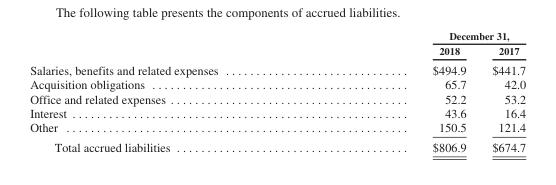table: (29, 29, 525, 153)
table column: (29, 29, 324, 153), (324, 29, 478, 153), (478, 29, 525, 153)
table column header: (29, 29, 525, 59)
table row: (29, 42, 525, 59), (29, 59, 525, 76), (29, 120, 525, 137), (29, 137, 525, 153), (29, 76, 525, 91), (29, 105, 525, 120), (29, 91, 525, 105), (29, 29, 525, 42)
table spanning cell: (324, 29, 525, 42)
